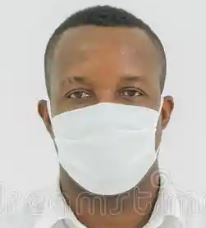with_facemask: (54, 105, 163, 191)
